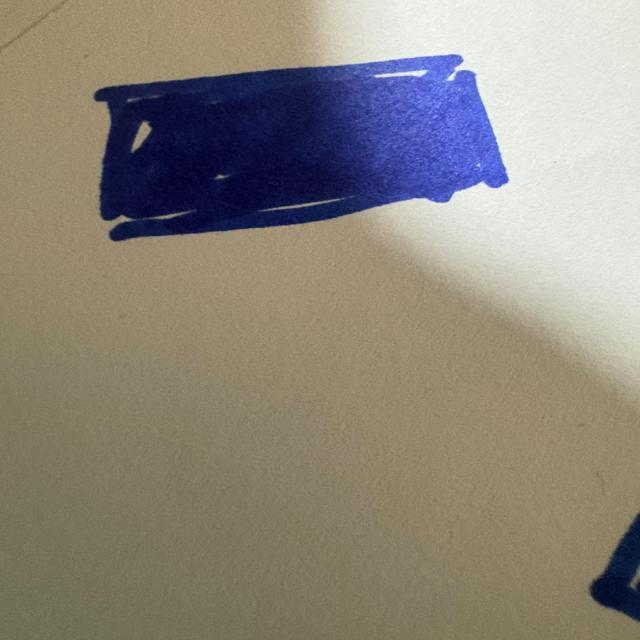Rectangle: (95, 55, 509, 241)
